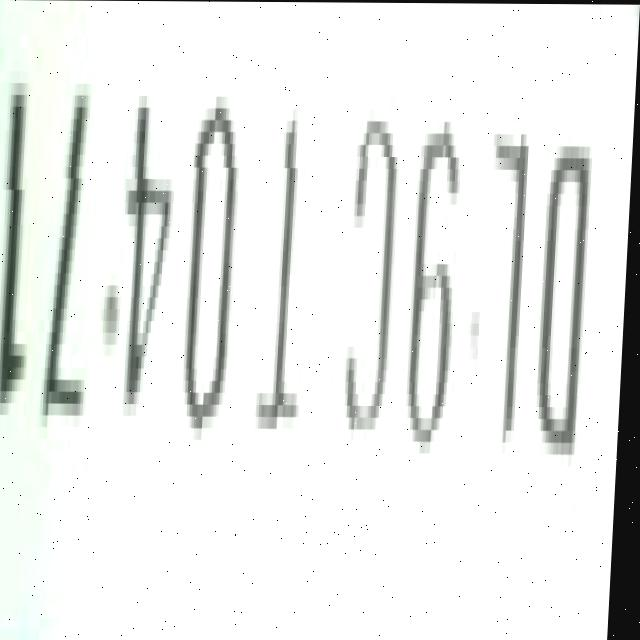plate: (0, 0, 627, 632)
